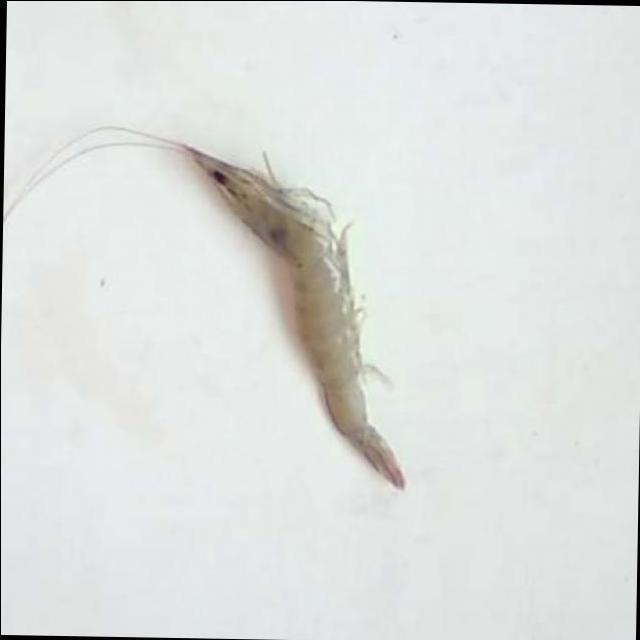shrimp: (2, 125, 404, 489)
